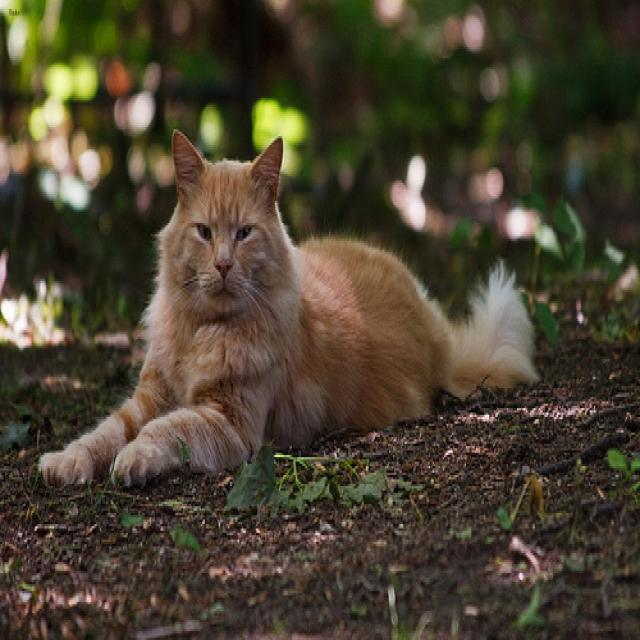Maine_Coon: (170, 127, 282, 308)
